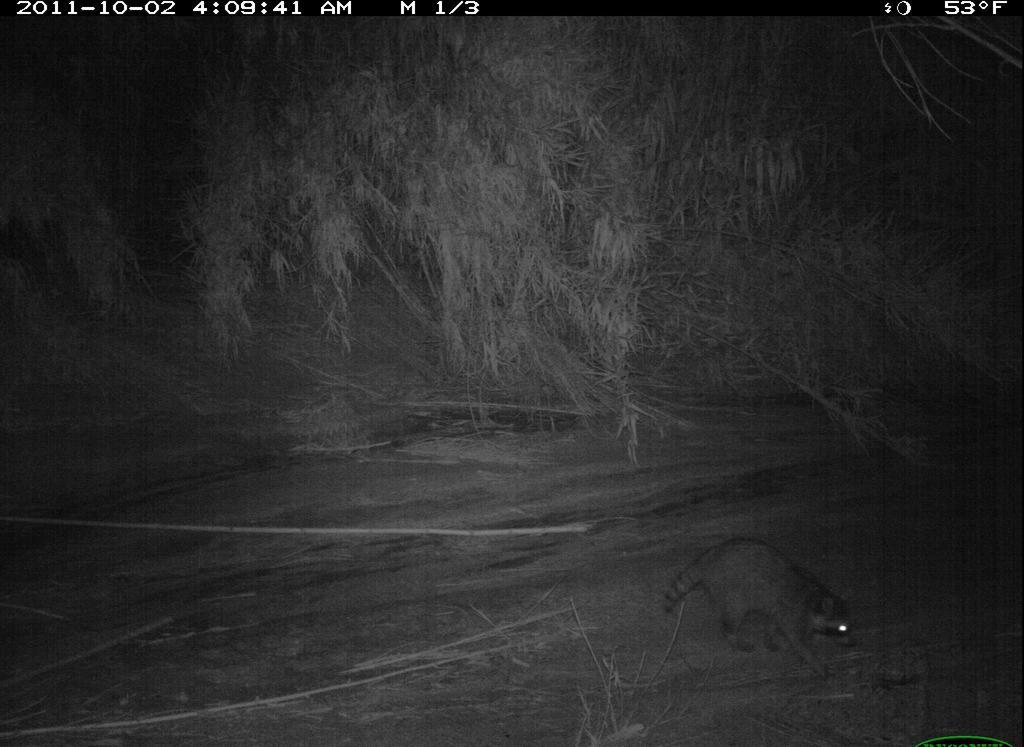raccoon: (656, 528, 863, 681)
